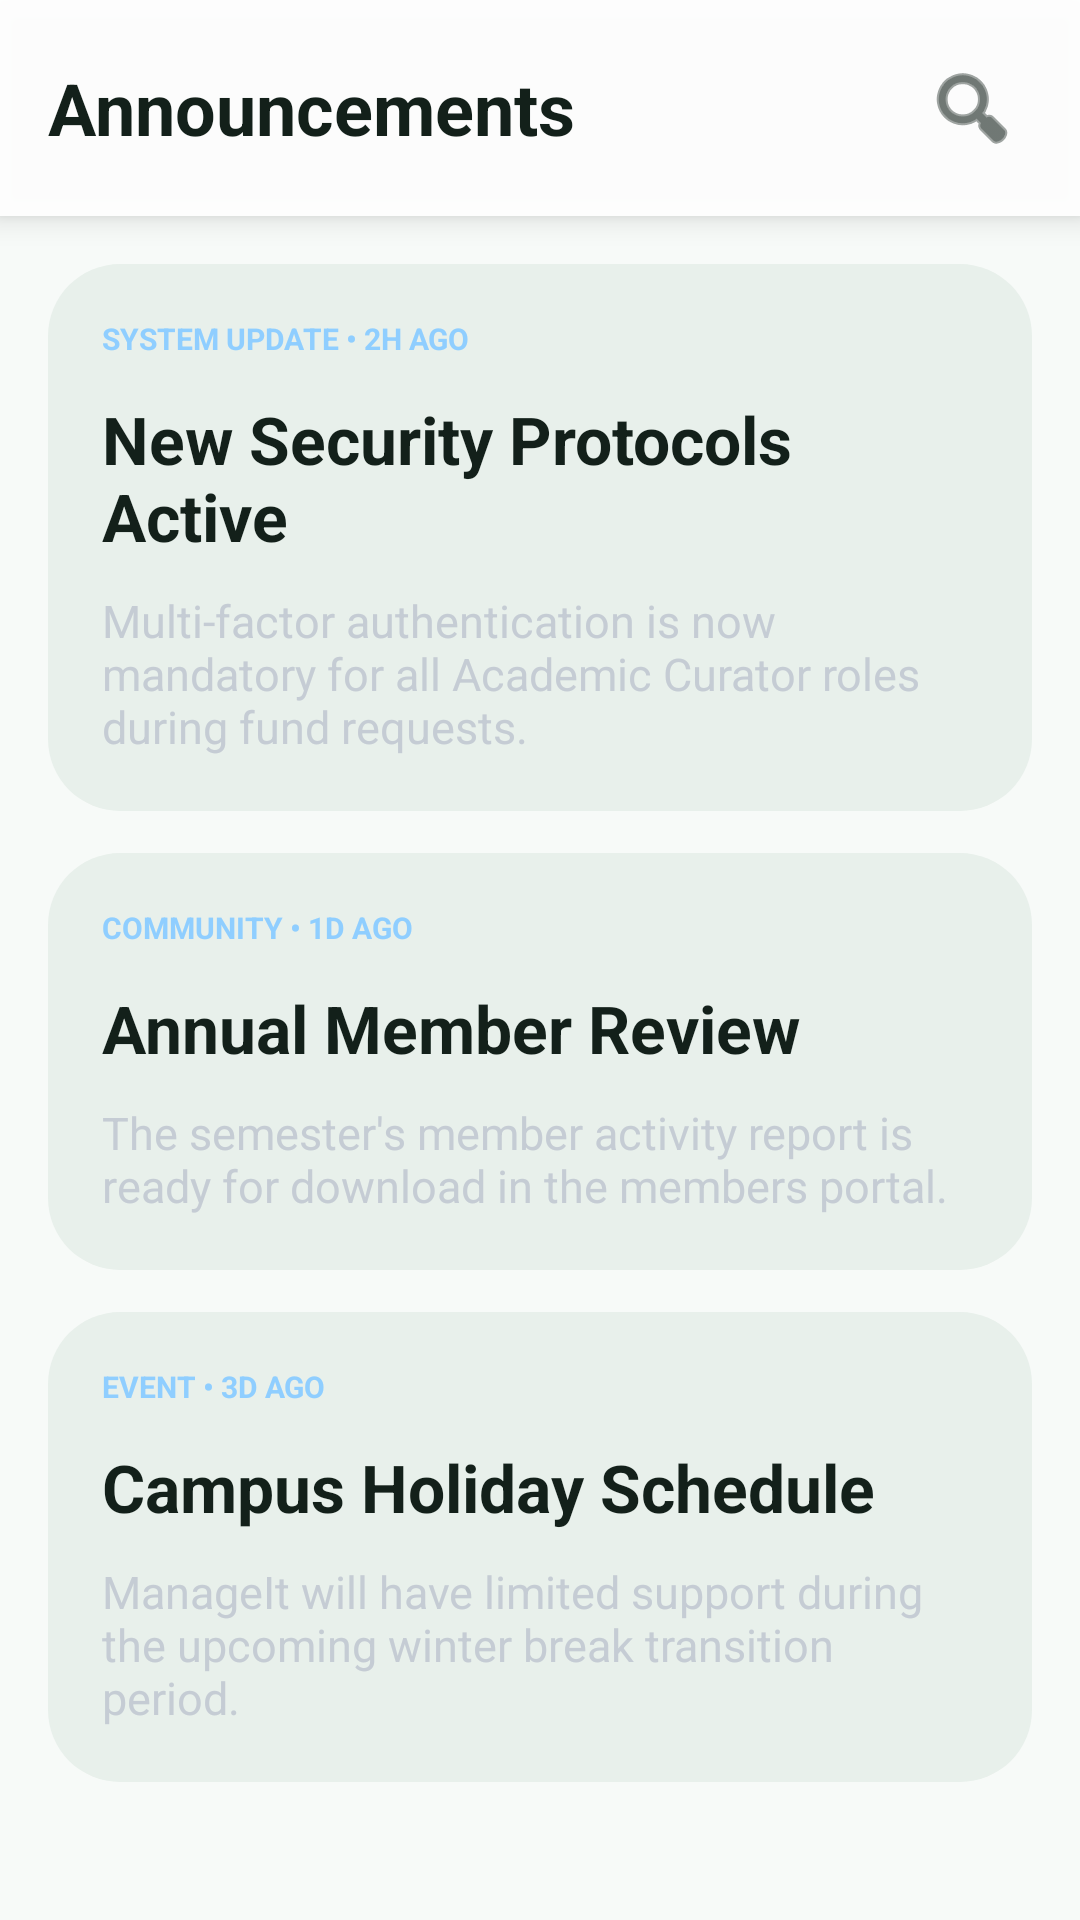

Locate icon controls on the screen. Image size 1080*1920, boxes as [left=x1, top=y1, right=x2, bottom=y2].
search: [left=936, top=73, right=1008, bottom=144]
